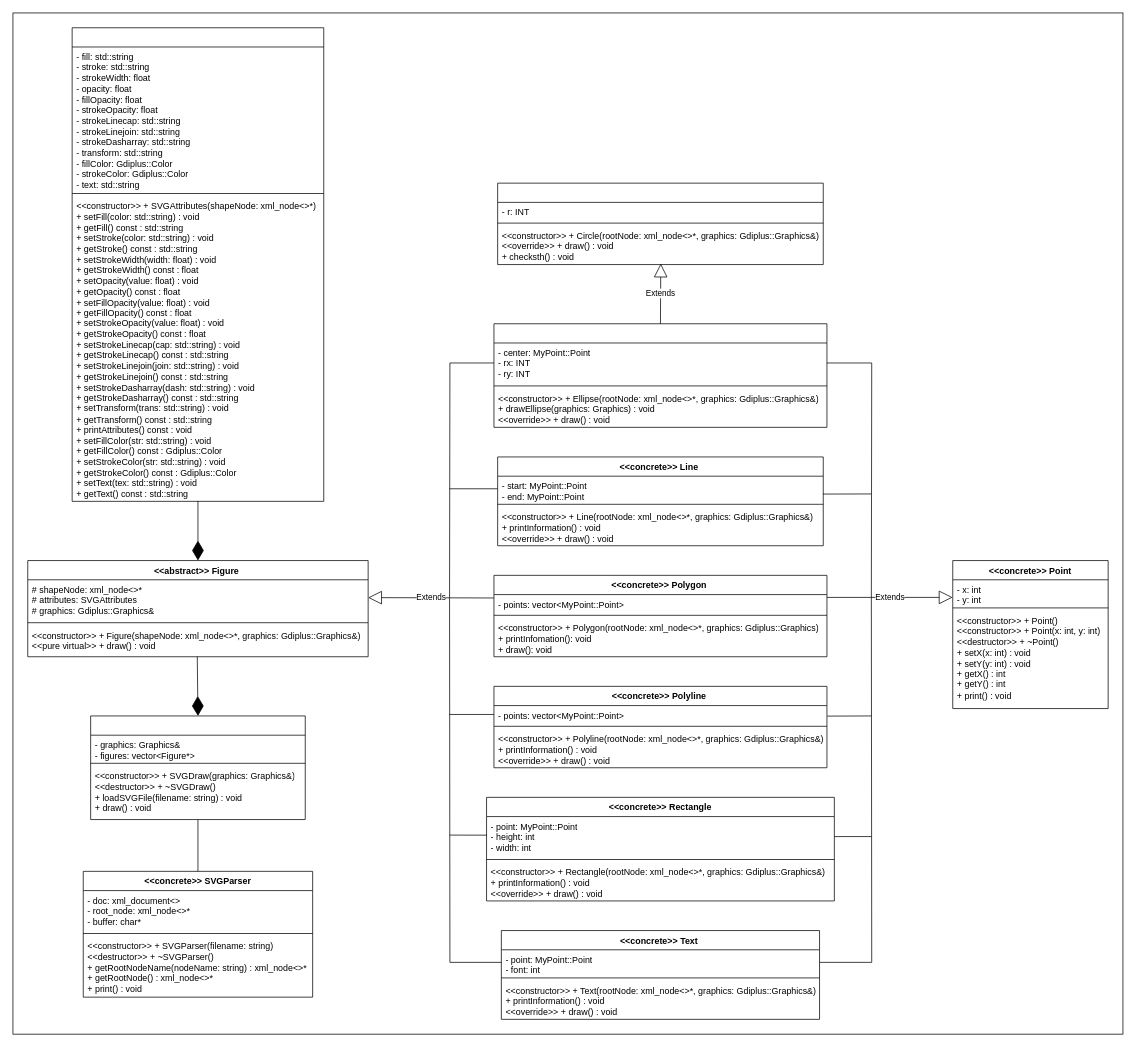
The diagram is 1136 pixels wide and 1047 high, and some of its shapes have lost their labels. The shapes that lost their labels are listed below. From the top down, each one's box as (x1, y1, x2, y2) in pixels, then its label:
(497, 182, 823, 265): < < concrete > > Circle
(71, 27, 324, 501): <<concrete>> SVGAttributes
(493, 323, 827, 427): < < concrete > > Ellipse
(90, 715, 305, 820): < < concrete > > SVGDraw
